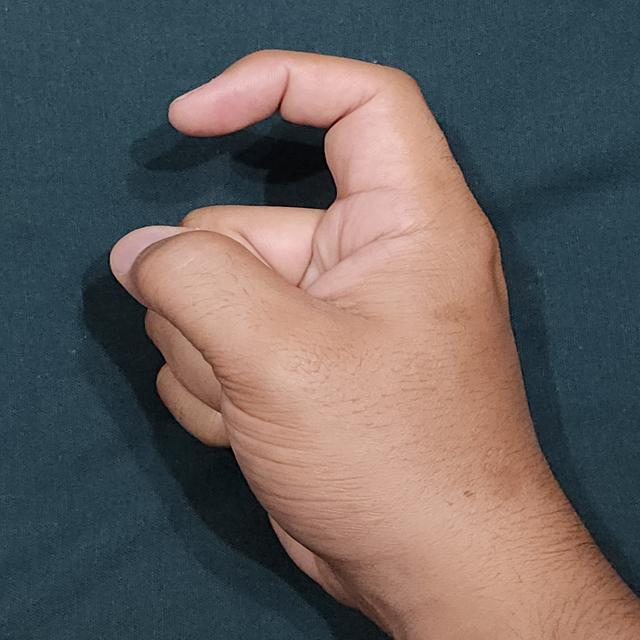چ: (84, 30, 640, 640)
